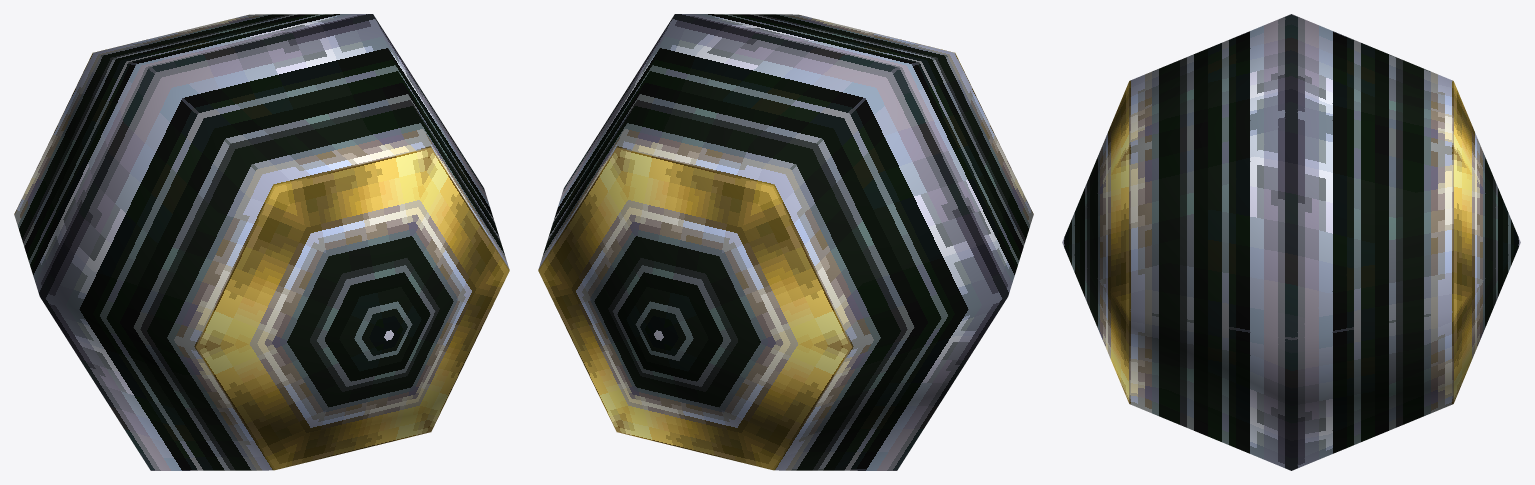
The model's file is Bomb.obj.
The picture shows the model from 3 angles, left to right: view 1: azimuth 30°, elevation 25°; view 2: azimuth 150°, elevation 25°; view 3: azimuth 270°, elevation 25°; orthographic projection. The views are drawn at different scales.
Bounding box in the file's own units: 5 × 4.33 × 5.
Materials: 1 (1 with a texture image).
